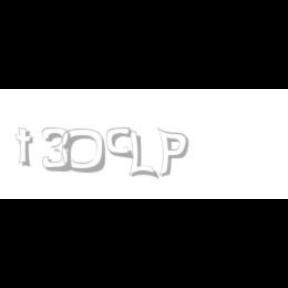3: (42, 128, 74, 172)
L: (128, 128, 156, 180)
O: (62, 128, 106, 174)
P: (157, 128, 189, 178)
c: (106, 128, 136, 160)
t: (16, 128, 38, 168)
